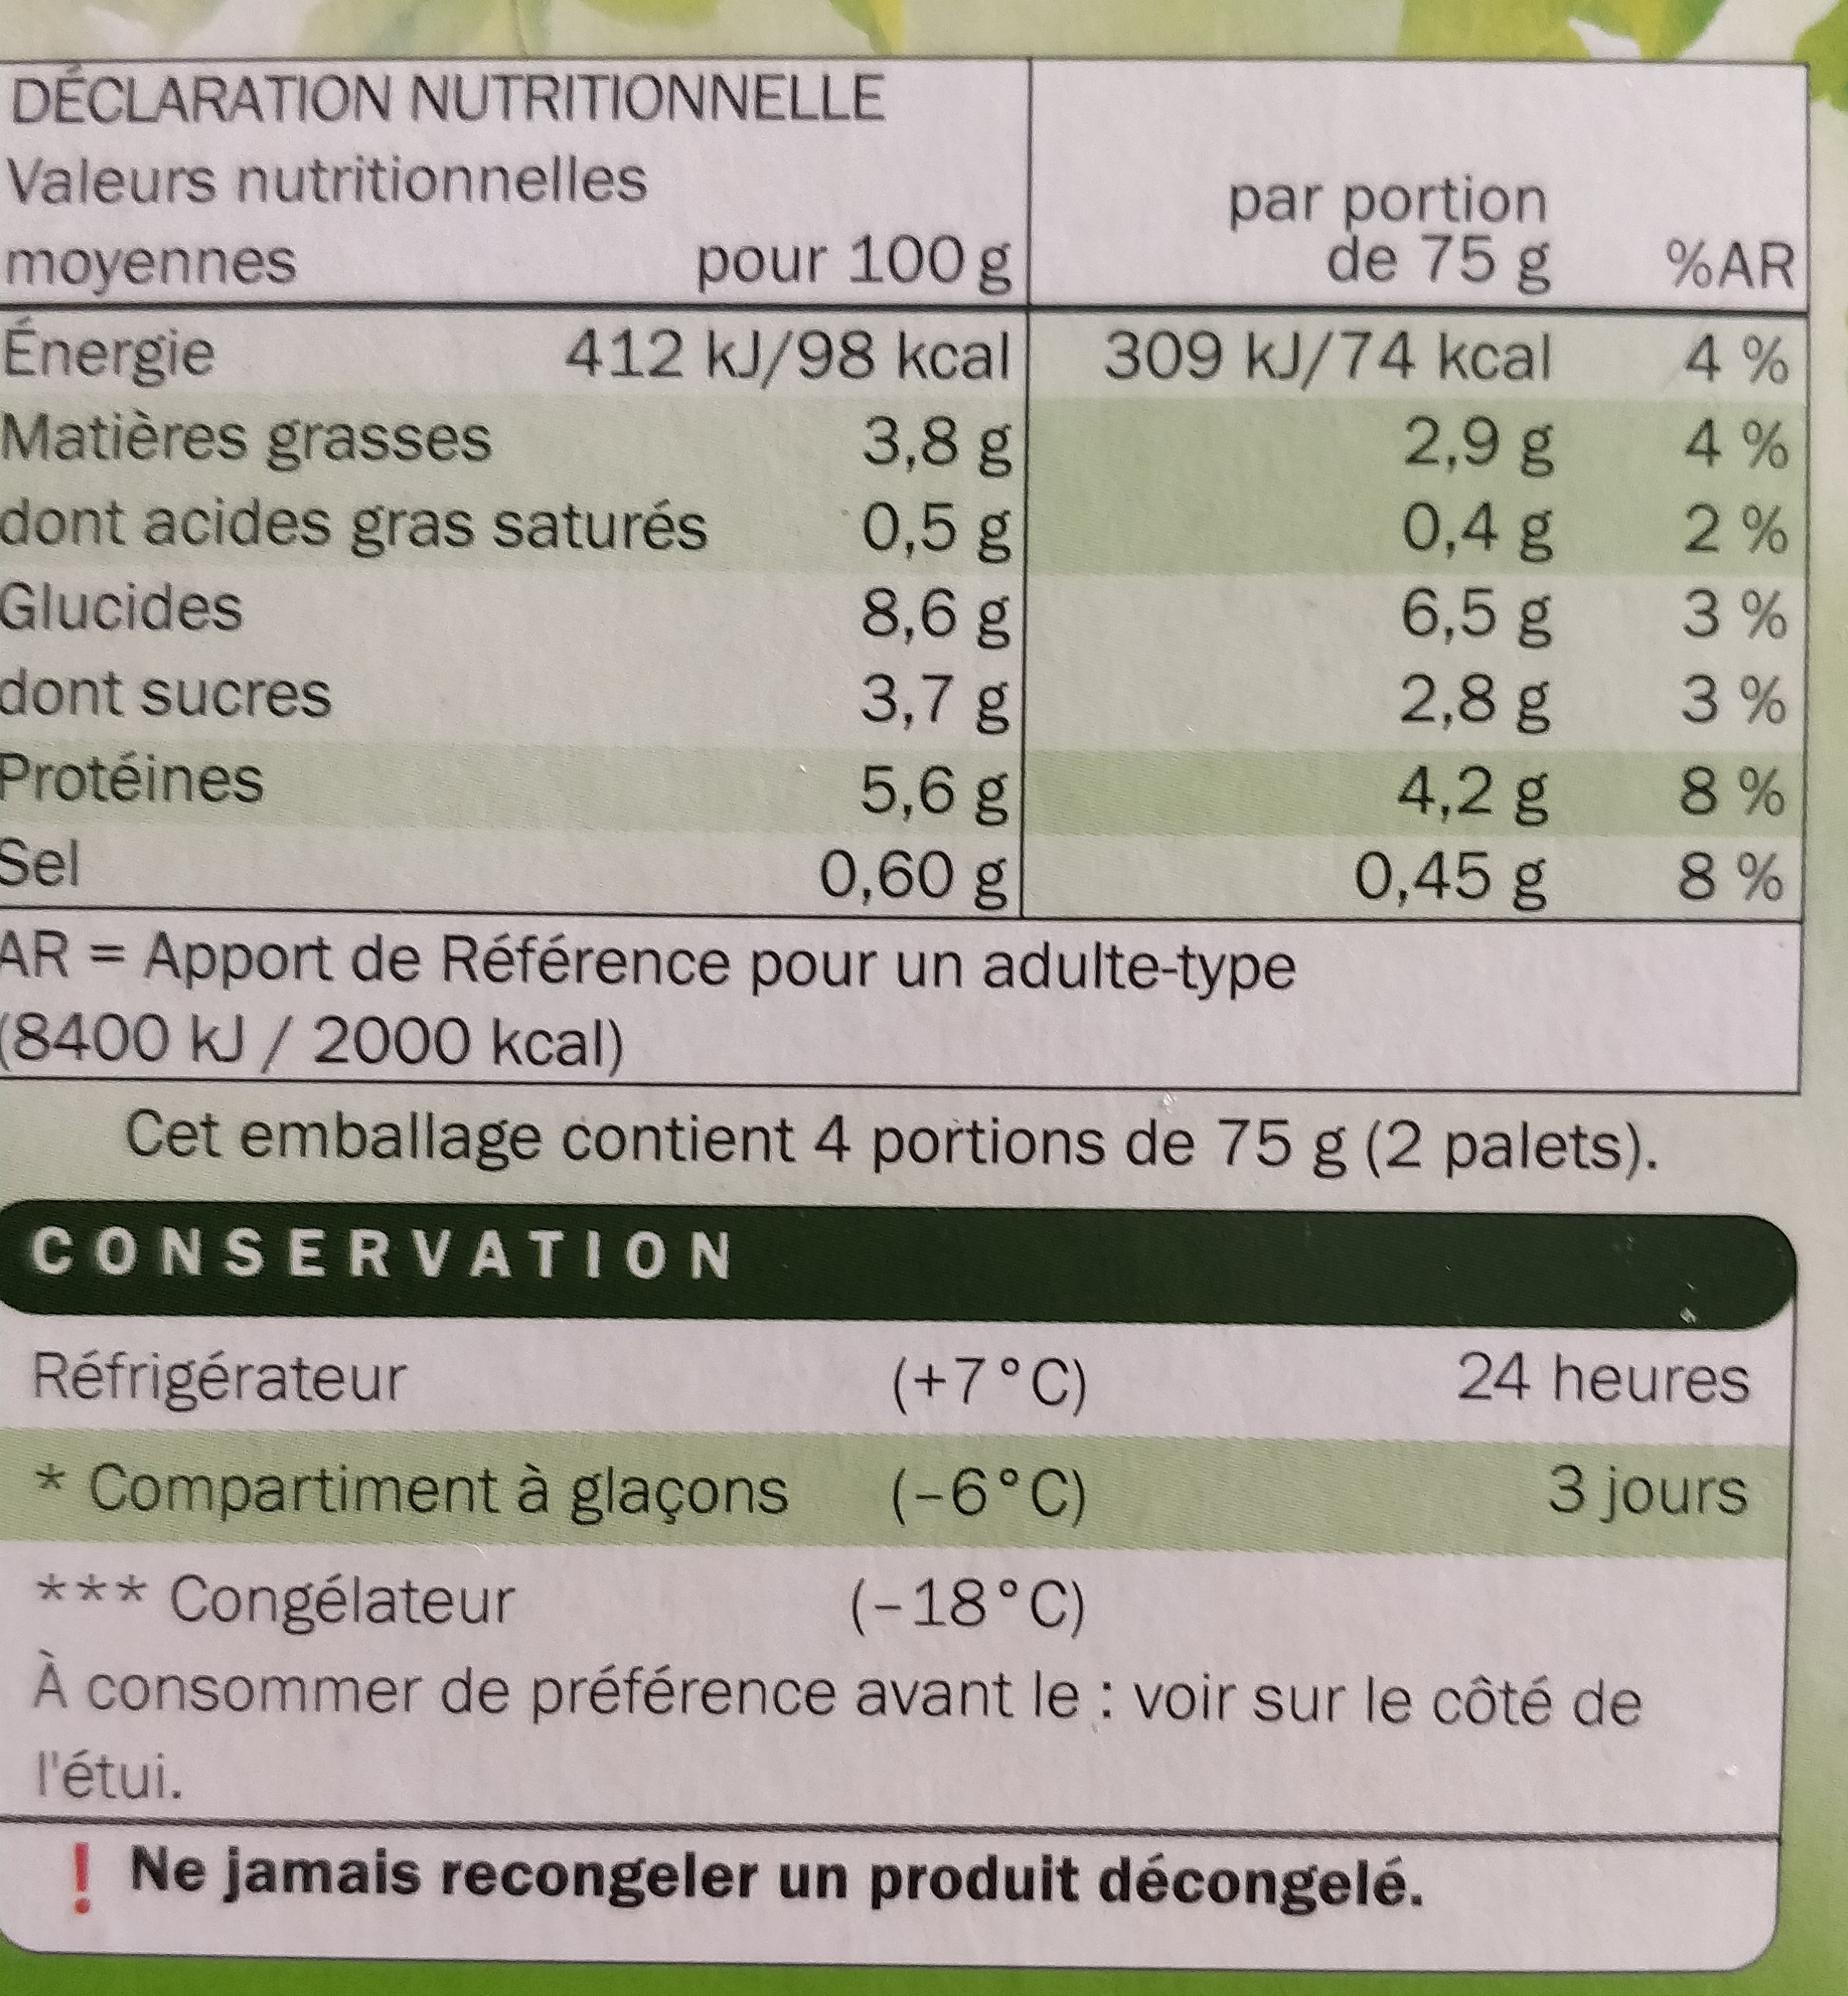column: (5, 68, 1010, 915), (1099, 66, 1559, 908), (1667, 78, 1792, 911)
table: (0, 63, 1811, 928)
